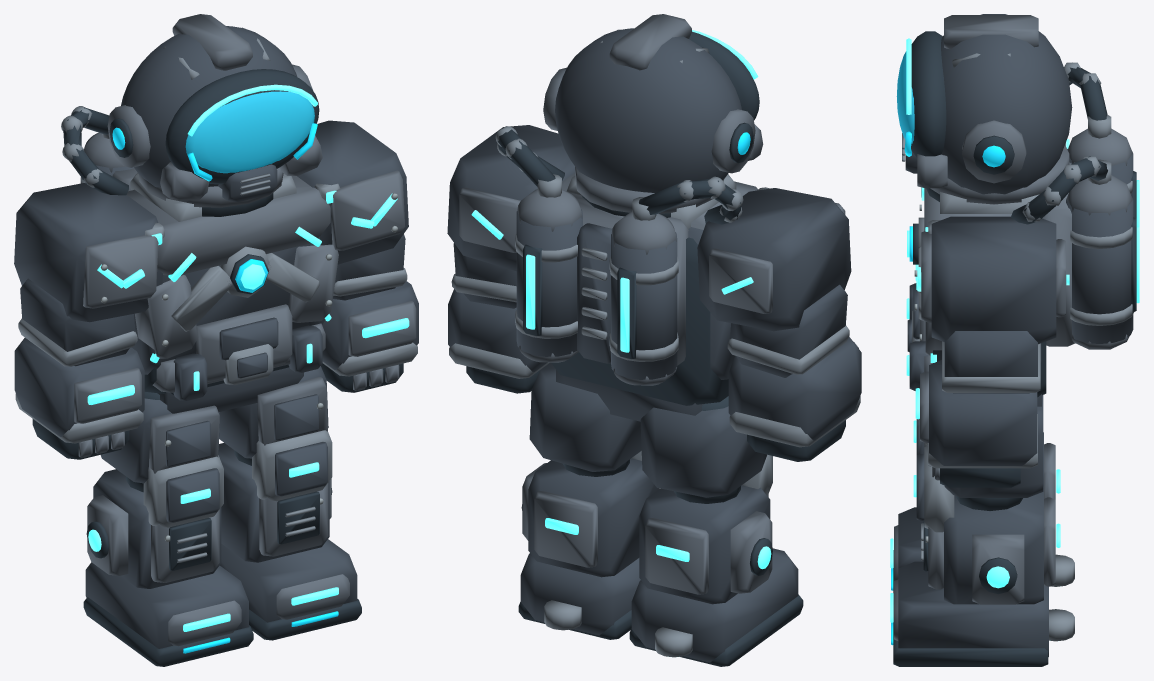
File: dive_suit_1.gltf
3 views of the same model, side by side, from view 1: azimuth 30°, elevation 25°; view 2: azimuth 150°, elevation 25°; view 3: azimuth 270°, elevation 25° (orthographic). The views are drawn at different scales.
Parts seen in each view (by area): view 1: Broad shoulder shell_050, Upper chest deck_002, Helmet shell_028, Cyan tinted panoramic visor_039, Heavy boot_103, Broad shoulder shell_068, Gauntlet main_057, Heavy boot_128, Visor black rim_038, Shoulder face plate_051, Shoulder face plate_069, Lower leg shell_118 (+56 smaller); view 2: Helmet shell_028, Broad shoulder shell_050, Upper thigh_086, Gauntlet main_057, Heavy boot_103, Upper thigh_111, Lower leg shell_118, Core pressure suit_000, Broad shoulder shell_068, Lower leg shell_093, Oxygen tank body_142, Heavy boot_128 (+40 smaller); view 3: Broad shoulder shell_068, Helmet shell_028, Heavy boot_128, Gauntlet main_075, Oxygen tank body_159, Lower leg shell_118, Upper arm_072, Visor black rim_038, Boot sole_129, Shin outside jet housing_124, Helmet crown spine_029, Helmet side port_035 (+37 smaller).
Boxes of the visible parts, <box> form: Broad shoulder shell_050: <box>14,183,162,322</box>; Upper chest deck_002: <box>126,176,330,275</box>; Helmet shell_028: <box>121,26,297,187</box>; Cyan tinted panoramic visor_039: <box>185,91,314,173</box>; Heavy boot_103: <box>85,562,248,648</box>; Broad shoulder shell_068: <box>297,120,408,264</box>; Gauntlet main_057: <box>14,338,144,436</box>; Heavy boot_128: <box>220,539,357,622</box>; Visor black rim_038: <box>165,69,319,184</box>; Shoulder face plate_051: <box>83,235,158,308</box>; Shoulder face plate_069: <box>330,170,405,250</box>; Lower leg shell_118: <box>218,443,329,562</box>; Helmet shell_028: <box>555,28,741,192</box>; Broad shoulder shell_050: <box>697,188,851,331</box>; Upper thigh_086: <box>640,406,766,497</box>; Gauntlet main_057: <box>728,336,861,440</box>; Heavy boot_103: <box>631,548,798,662</box>; Upper thigh_111: <box>529,362,641,471</box>; Lower leg shell_118: <box>528,458,659,577</box>; Core pressure suit_000: <box>551,237,728,405</box>; Broad shoulder shell_068: <box>447,125,574,271</box>; Lower leg shell_093: <box>639,485,770,604</box>; Oxygen tank body_142: <box>611,232,677,379</box>; Heavy boot_128: <box>520,553,640,635</box>; Broad shoulder shell_068: <box>931,216,1056,344</box>; Helmet shell_028: <box>941,14,1072,194</box>; Heavy boot_128: <box>898,561,1048,656</box>; Gauntlet main_075: <box>929,360,1037,465</box>; Oxygen tank body_159: <box>1066,198,1133,343</box>; Lower leg shell_118: <box>944,486,1043,604</box>; Upper arm_072: <box>944,331,1037,393</box>; Visor black rim_038: <box>911,31,946,157</box>; Boot sole_129: <box>893,605,1048,666</box>; Shin outside jet housing_124: <box>972,534,1024,604</box>; Helmet crown spine_029: <box>944,15,1038,49</box>; Helmet side port_035: <box>962,120,1026,183</box>.
Bounding box in the file's own units: 3.05 × 4.77 × 1.82.
